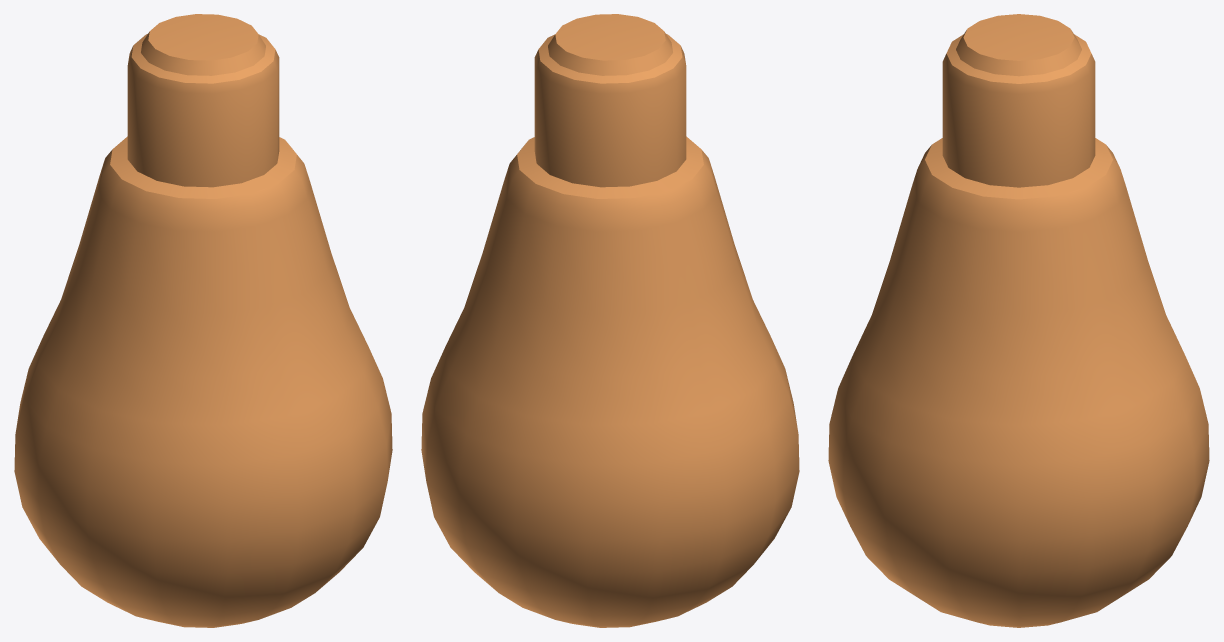
Rendered from zengu.fbx.
The picture shows the model from 3 angles, left to right: view 1: azimuth 30°, elevation 25°; view 2: azimuth 150°, elevation 25°; view 3: azimuth 270°, elevation 25°; orthographic projection.
Parts seen in each view (by area): view 1: Sphere; view 2: Sphere; view 3: Sphere.
Boxes of the visible parts, x1,y1,x2,y2 form: Sphere: (14, 14, 392, 627); Sphere: (421, 14, 799, 627); Sphere: (828, 14, 1209, 627).
Bounding box in the file's own units: 26.81 × 44.59 × 26.81.
